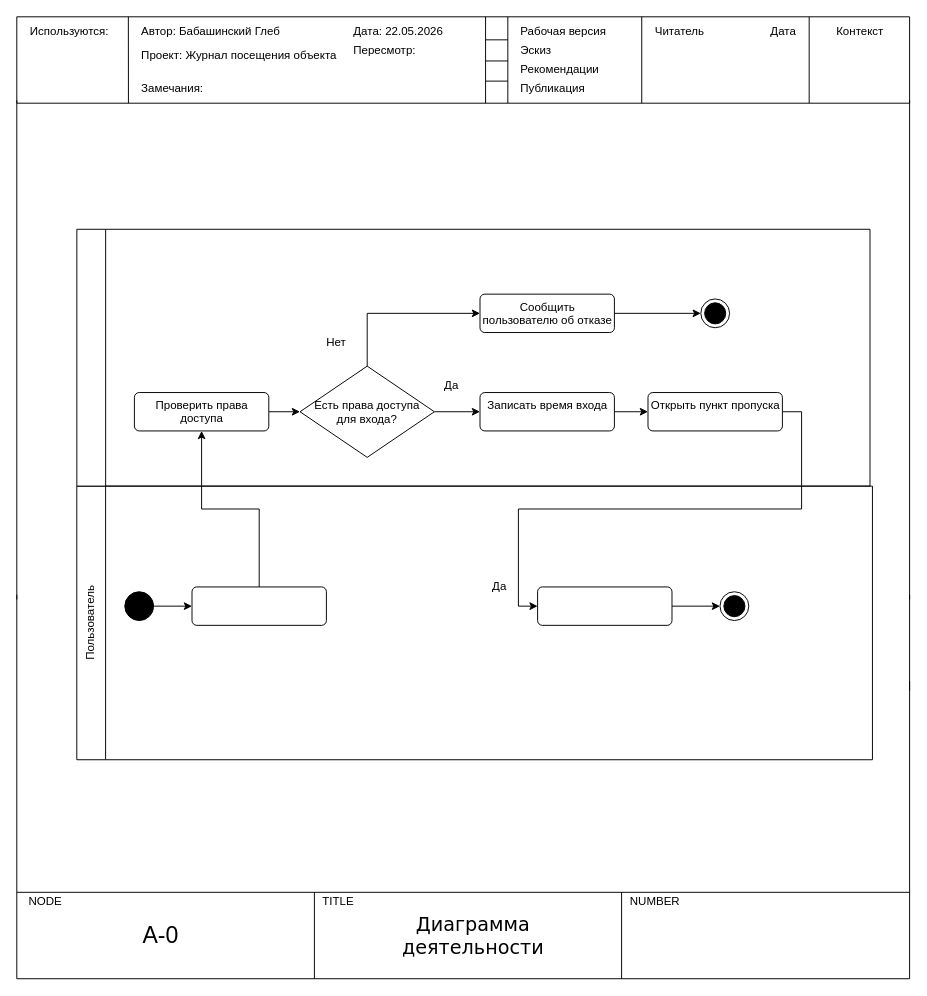
Image size: 927x996. Some labels were removed from this diagram. Here are the shapes that lost their labels. From the top down, the box of each, then its label:
(76, 228, 870, 486): Сервер
(191, 586, 326, 625): Приложить документ к считывателю
(537, 586, 672, 625): Пройти на объект
